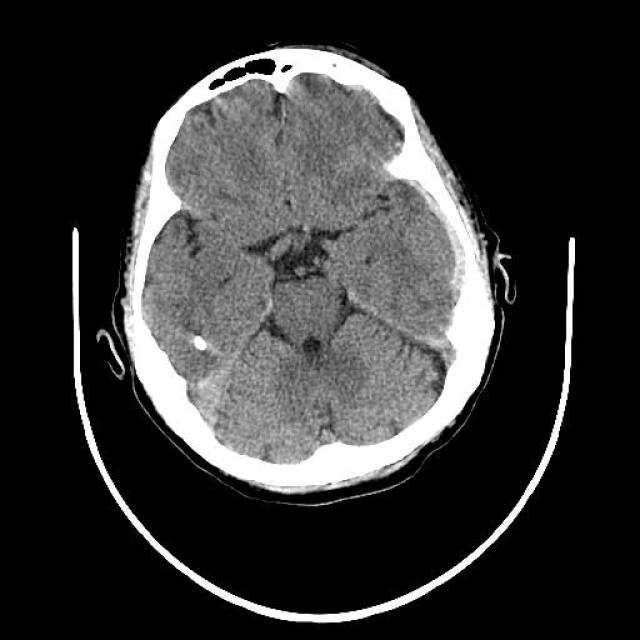Subdural: (408, 158, 500, 398)
